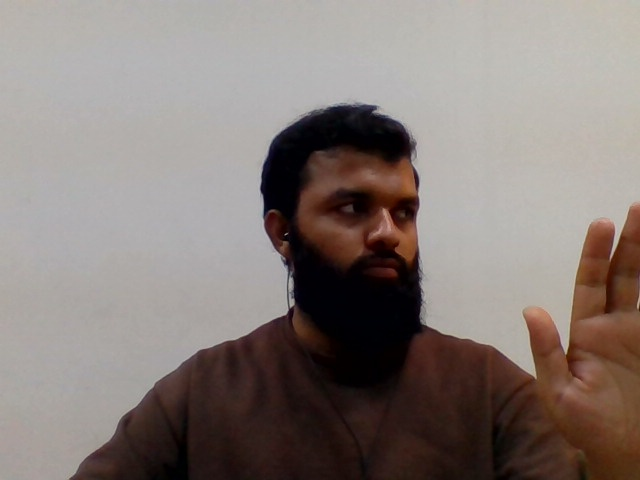Hello: (506, 186, 640, 463)
